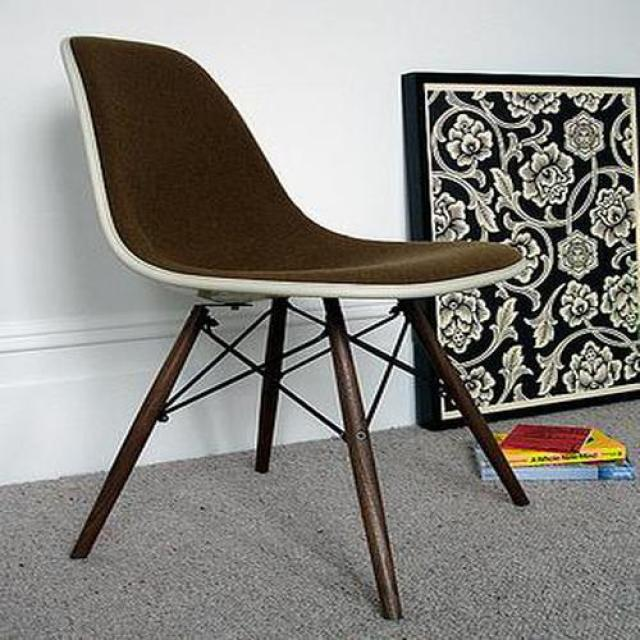chair: (63, 37, 531, 622), (73, 305, 219, 562)
